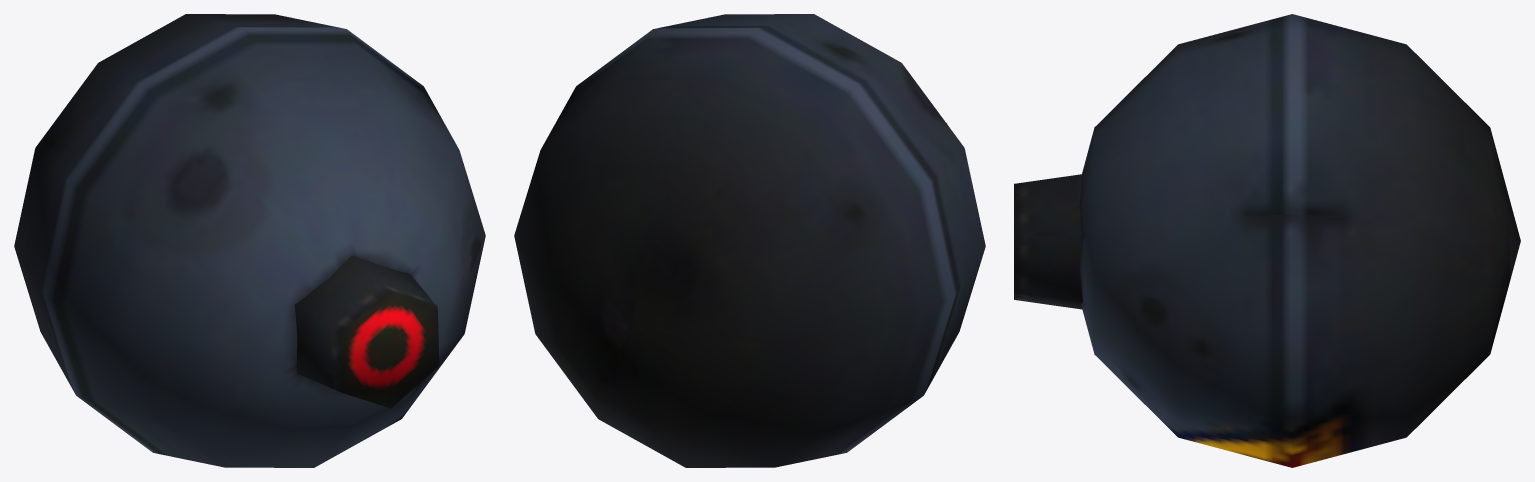
Rendered from Skill_Swat_01_f51981d6__Skill_Swat_01_5197ec29_c1f257.obj.
3 renders of one model, left to right at view 1: azimuth 30°, elevation 25°; view 2: azimuth 150°, elevation 25°; view 3: azimuth 270°, elevation 25°, orthographic. The views are drawn at different scales.
Size of the model in its own units: 0.2864 by 0.2864 by 0.3177.
Materials: 1 (1 with a texture image).
